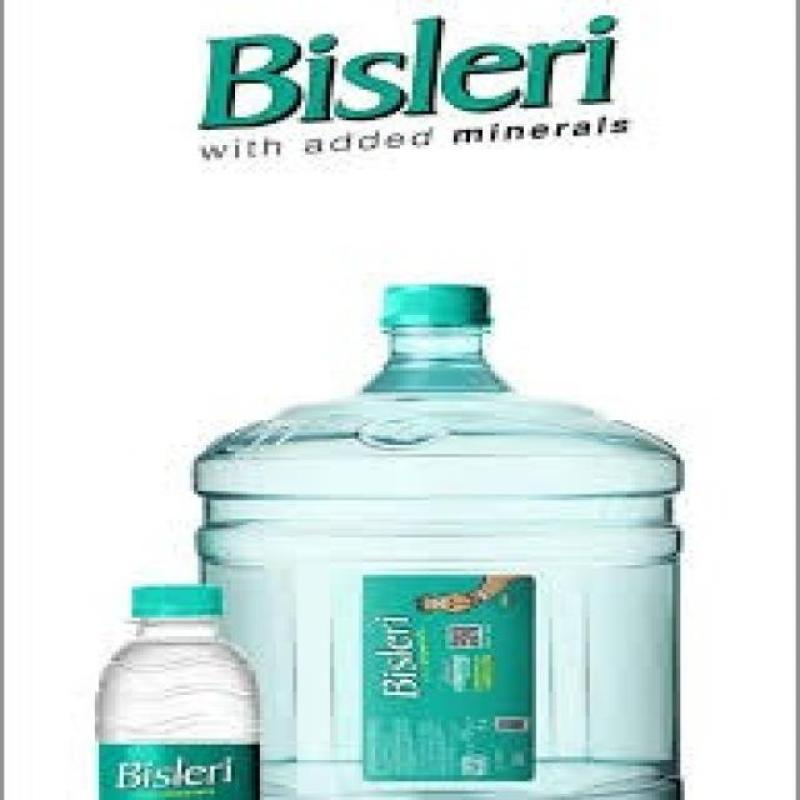botella: (94, 584, 264, 800)
